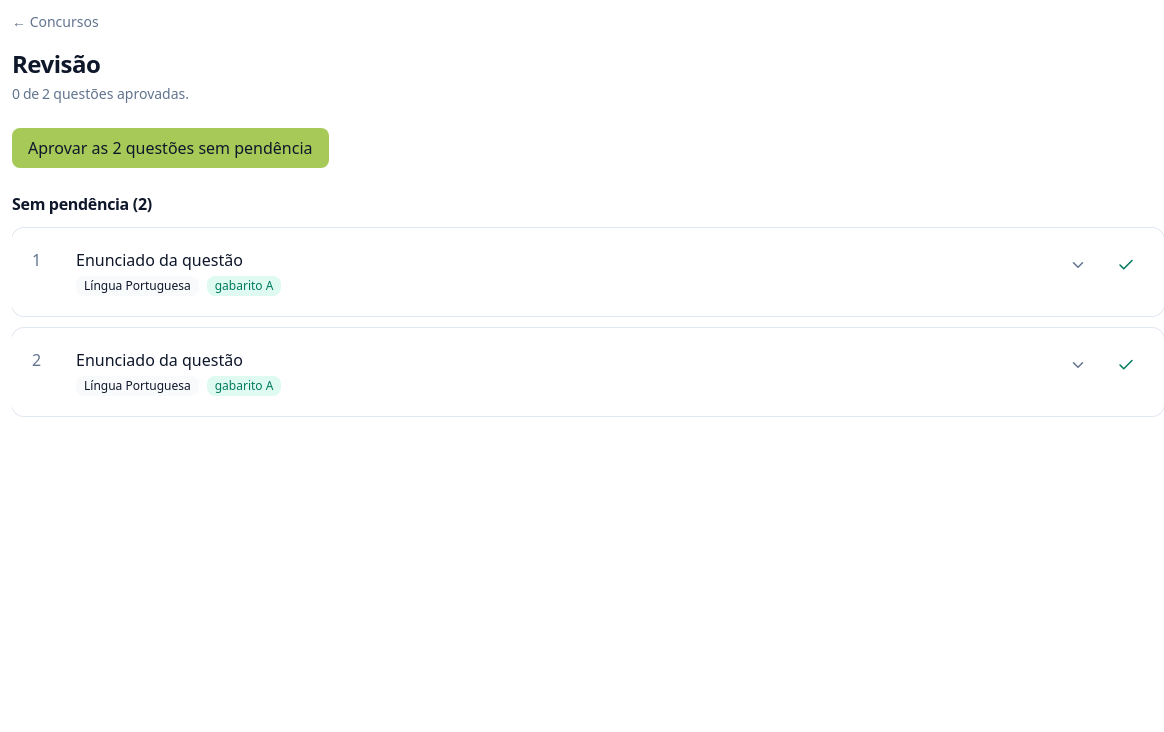
Test: RevisaoQuestoesComponent › aprova em lote com a contagem explícita
The width and height of the screenshot is (1164, 732).
Click the button "Aprovar as 2 questões sem pendência": (170, 148) x1=12 y1=128 x2=328 y2=168
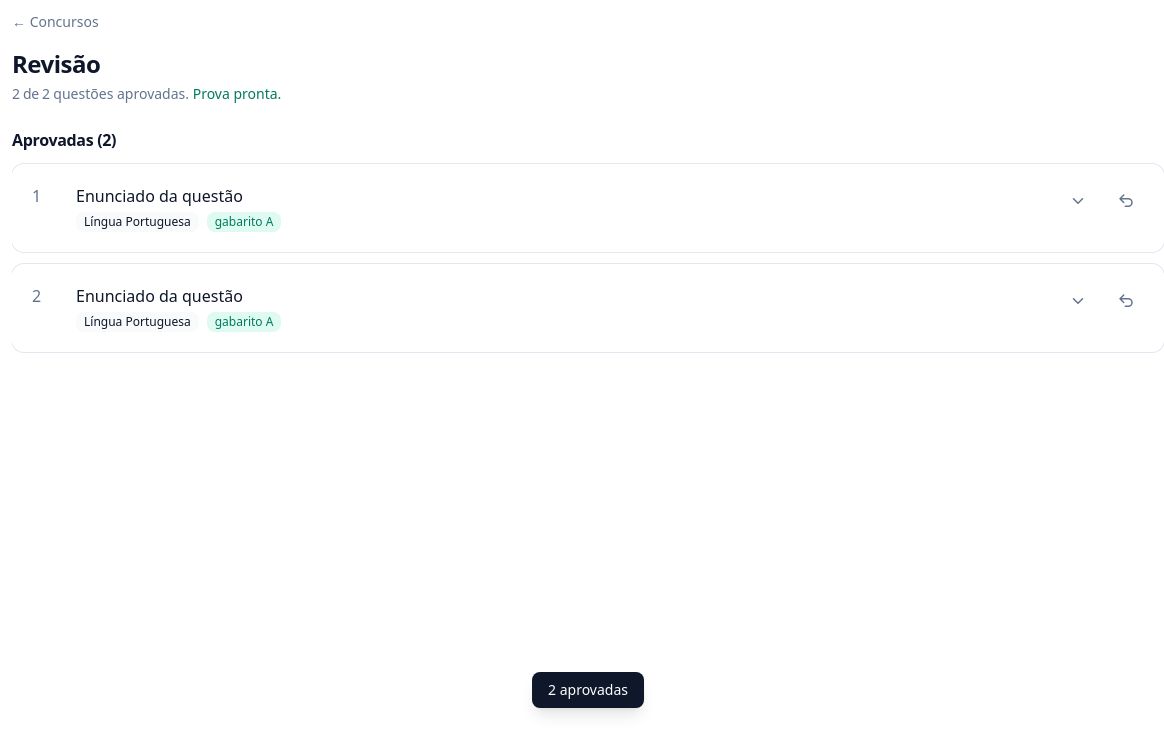
Check: the text "Prova pronta" is shown, box x1=193 y1=84 x2=281 y2=103
